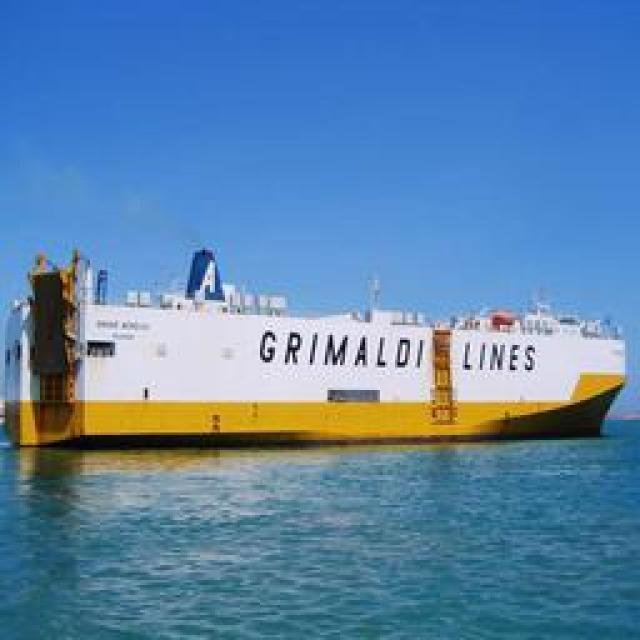CIV_Ship: (2, 245, 632, 453)
